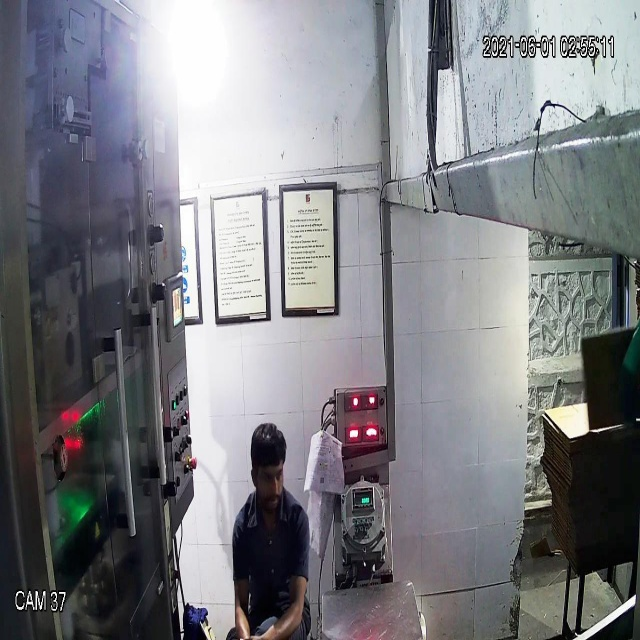Sin_gafas: (250, 460, 286, 489)
